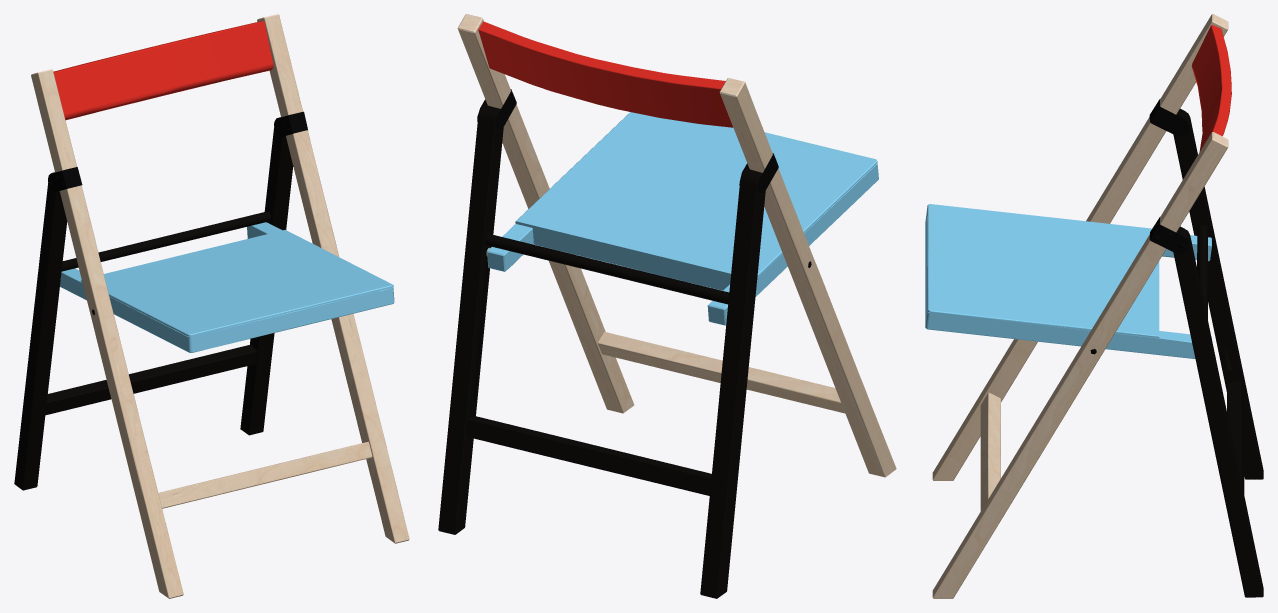
File: ikea_ps_2026_krzeso_skadane_10617894.glb
3 renders of one model, left to right at view 1: azimuth 30°, elevation 25°; view 2: azimuth 150°, elevation 25°; view 3: azimuth 270°, elevation 25°, orthographic. The views are drawn at different scales.
Visible parts, largest first — view 1: ikea_ps_2026_krzeso_skadane_10617894; view 2: ikea_ps_2026_krzeso_skadane_10617894; view 3: ikea_ps_2026_krzeso_skadane_10617894.
Part boxes in pixels (<box>): ikea_ps_2026_krzeso_skadane_10617894: <box>14,14,409,598</box>; ikea_ps_2026_krzeso_skadane_10617894: <box>438,14,896,598</box>; ikea_ps_2026_krzeso_skadane_10617894: <box>925,14,1263,598</box>.
Size of the model in its own units: 0.4487 by 0.7609 by 0.5076.
1 material, 1 textured.
